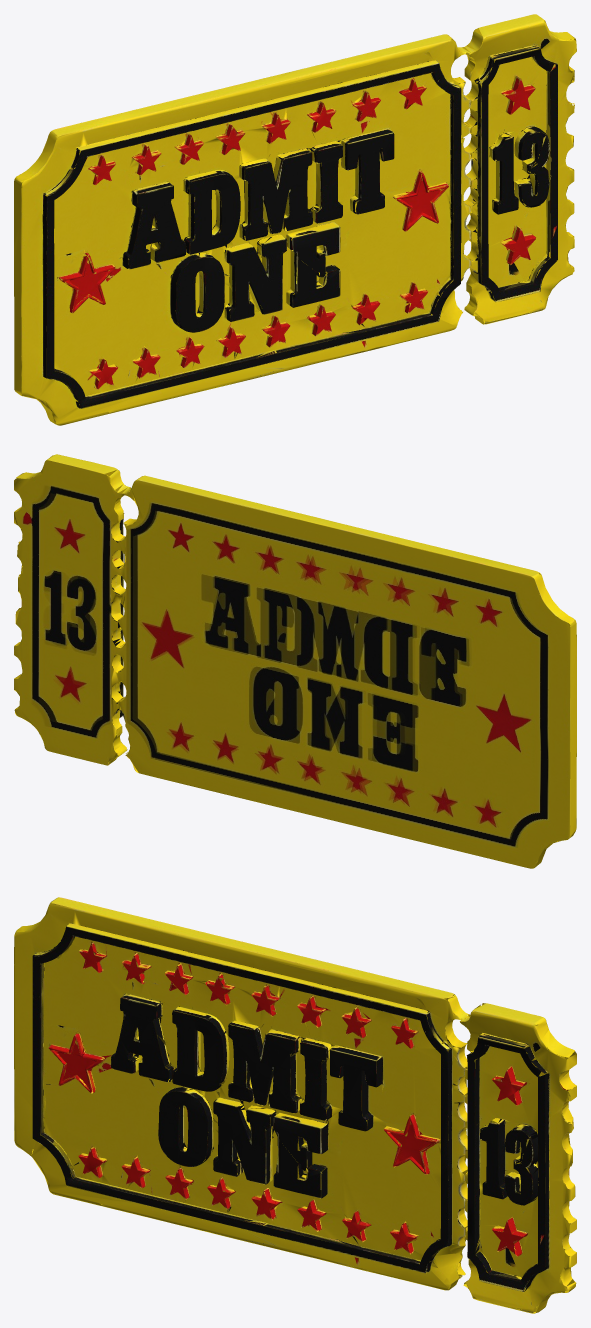
File: ticket.glb
3 renders of one model, top to bottom at view 1: azimuth 30°, elevation 25°; view 2: azimuth 150°, elevation 25°; view 3: azimuth 330°, elevation 25°, orthographic.
Parts seen in each view (by area): view 1: ticket; view 2: ticket; view 3: ticket.
Part boxes in pixels (x1,y1,x2,y2): ticket: (14, 14, 576, 425); ticket: (14, 454, 576, 868); ticket: (14, 897, 576, 1313).
Size of the model in its own units: 1 by 0.5033 by 0.0422.
Materials: 1 (1 with a texture image).
